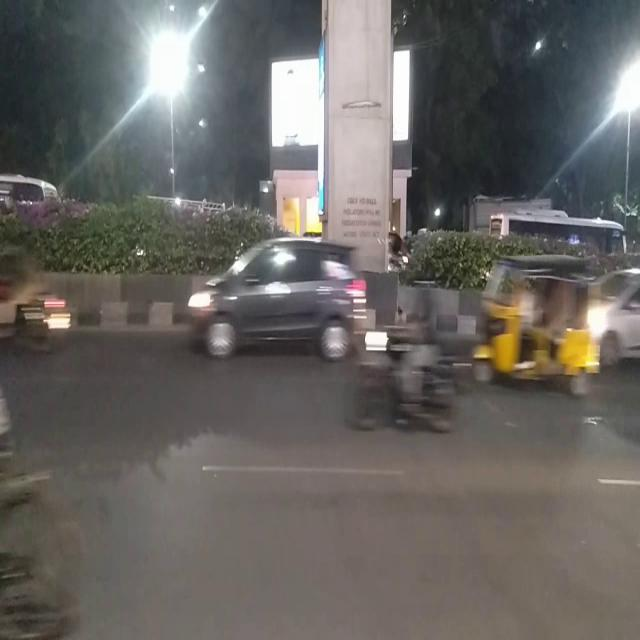auto: (474, 256, 594, 404)
car: (183, 232, 364, 359), (594, 267, 640, 375)
road: (0, 365, 640, 640)
